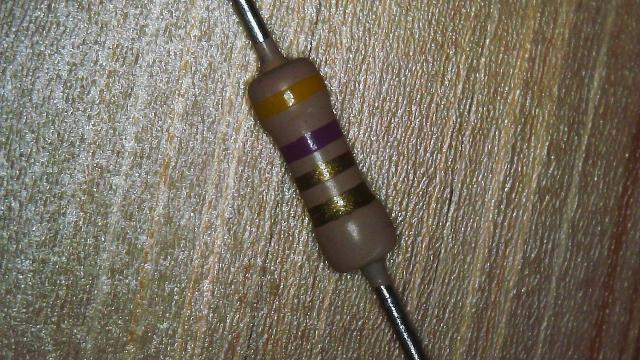gold: (308, 184, 376, 226), (297, 154, 356, 187)
resistor: (209, 45, 430, 301)
violet: (279, 120, 343, 162)
yellow: (255, 74, 325, 116)
